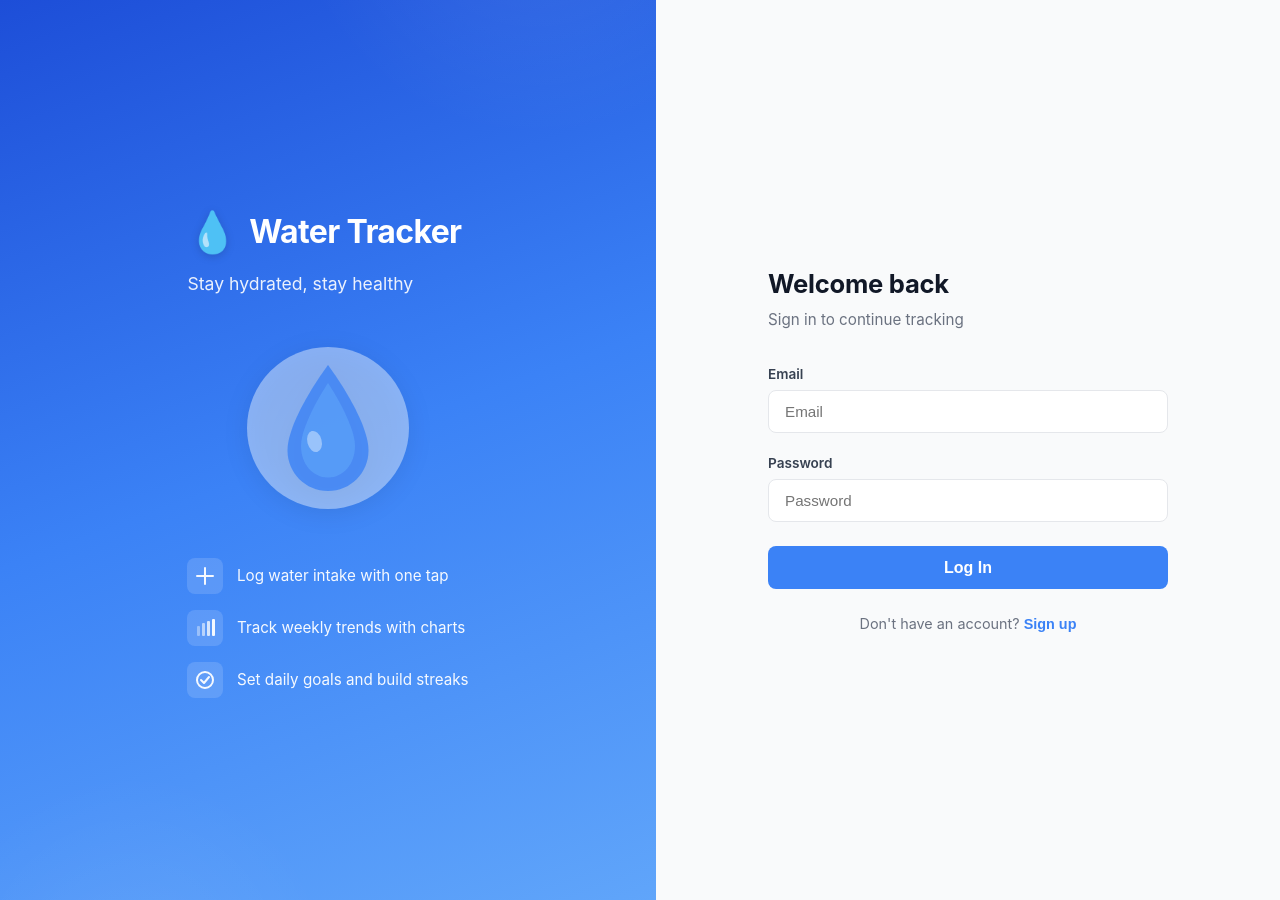
it: LoginPage › toggles back to login mode
Click the button "Sign up". click: (1050, 624)
box: [1024,616,1076,632]
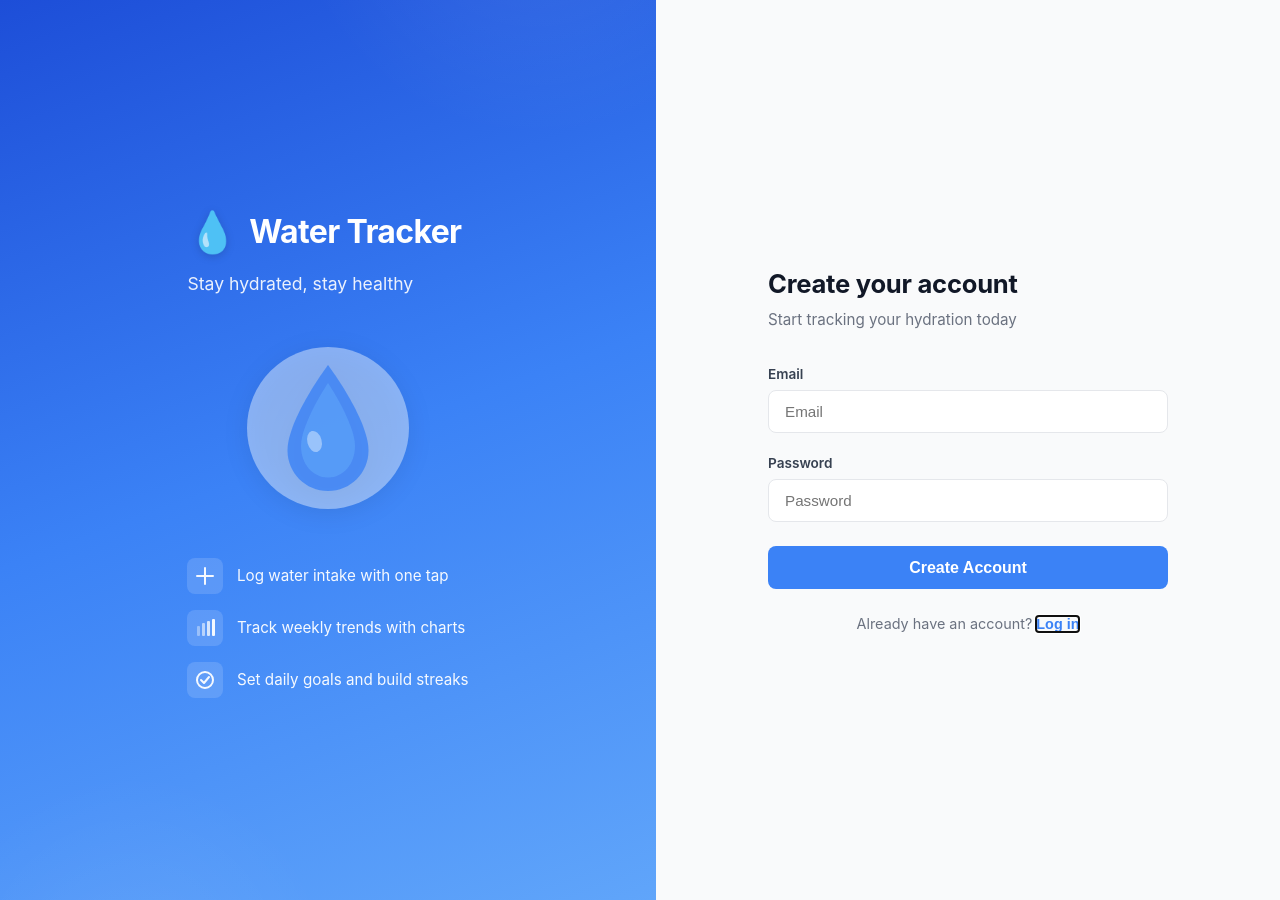
Click the button "Log in". click: (1058, 624)
box: [1036,616,1080,632]
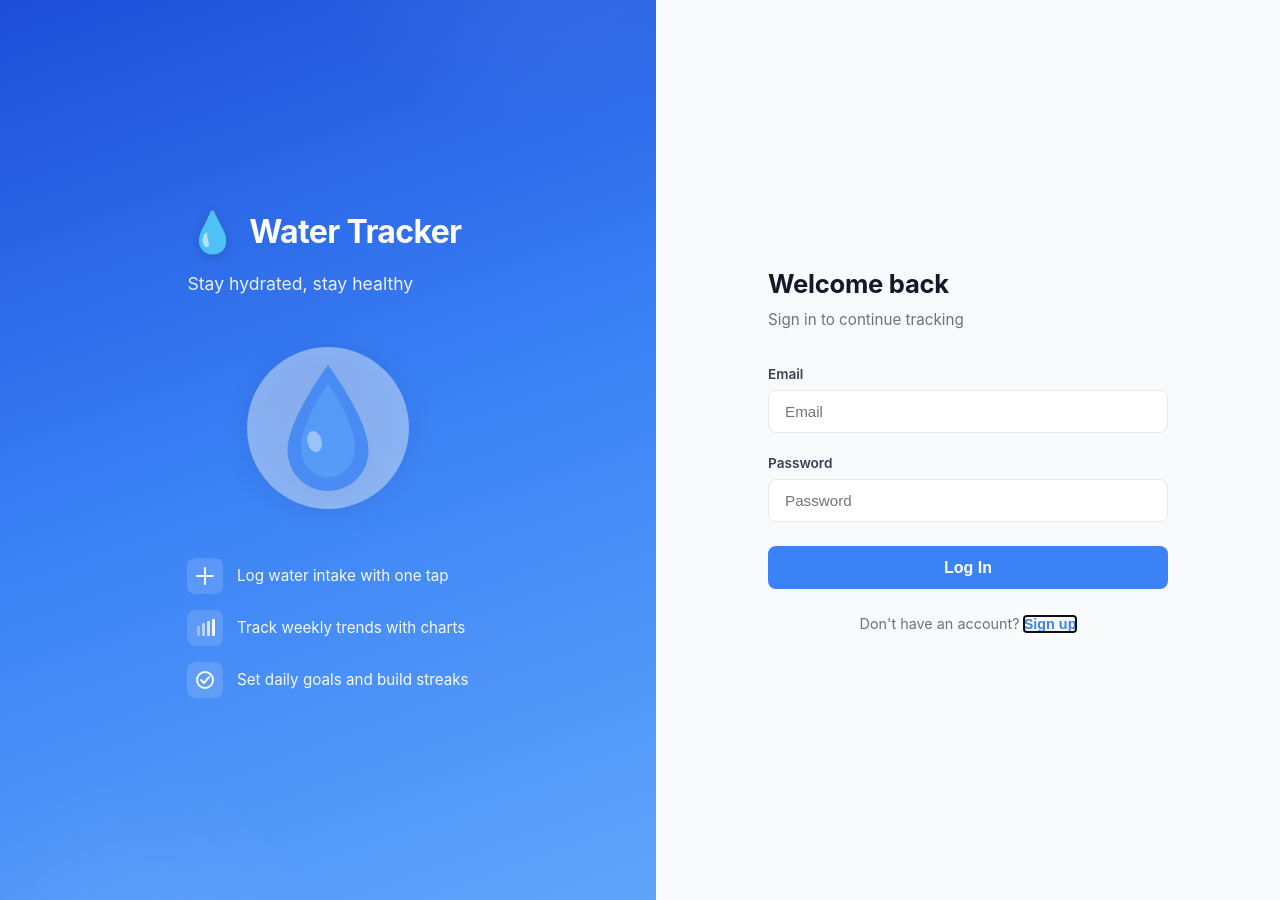
expect the button "Log In" is shown: met, box [768,546,1168,589]
